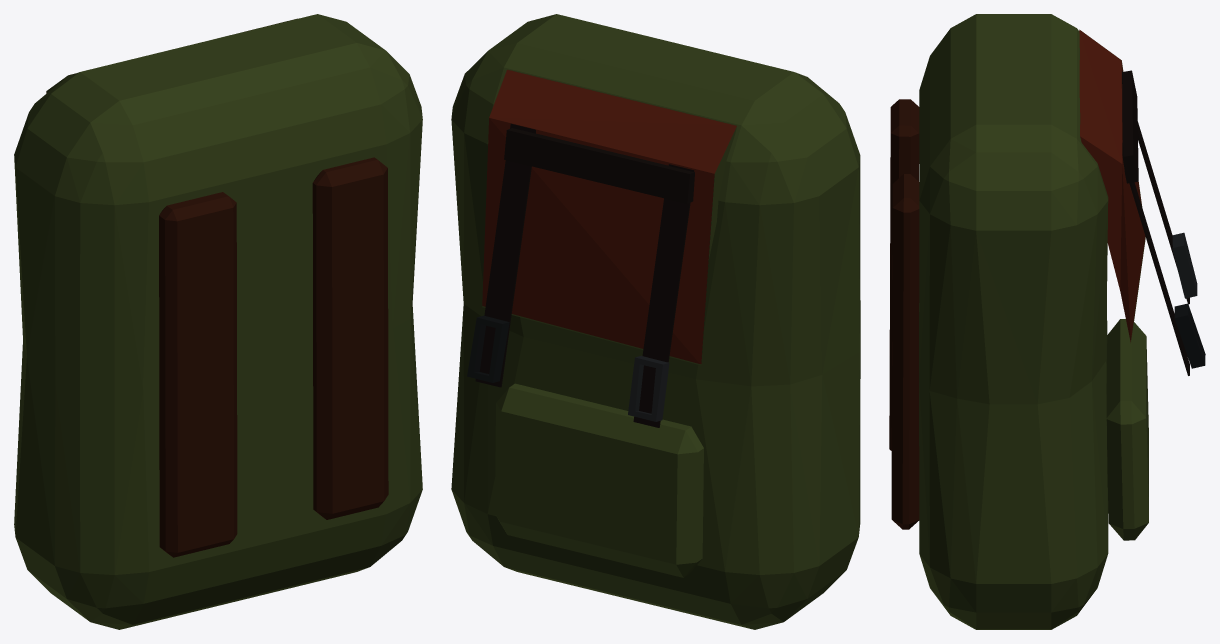
Rendered from backpack.obj.
3 views of the same model, side by side, from view 1: azimuth 30°, elevation 25°; view 2: azimuth 150°, elevation 25°; view 3: azimuth 270°, elevation 25° (orthographic). The views are drawn at different scales.
Parts seen in each view (by area): view 1: corpo, alca_r, alca_l; view 2: corpo, bolso, tira_m, tirar_r, tira_l, grampo_l, grampo_r; view 3: corpo, alca_l, bolso, alca_r, tira_m, tira_l, grampo_l, grampo_r, tirar_r.
Part boxes in pixels (x1,y1,x2,y2): corpo: (14,14,422,629); alca_r: (159,192,237,557); alca_l: (312,157,388,519); corpo: (451,14,860,629); bolso: (482,70,736,363); tira_m: (504,128,694,203); tirar_r: (633,164,694,427); tira_l: (475,123,535,387); grampo_l: (467,315,509,382); grampo_r: (628,355,669,421); corpo: (919,14,1148,629); alca_l: (891,174,919,529); bolso: (1079,30,1145,342); alca_r: (889,99,919,450); tira_m: (1122,70,1138,183); tira_l: (1122,143,1189,375); grampo_l: (1174,303,1205,368); grampo_r: (1172,232,1197,298); tirar_r: (1122,71,1189,304).
Bounding box in the file's own units: 1.08 × 1.49 × 0.8464.
